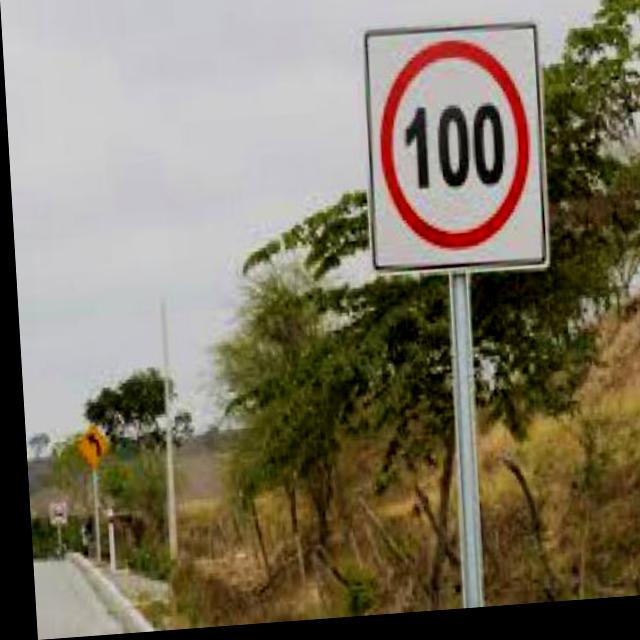limit100: (364, 30, 548, 267)
